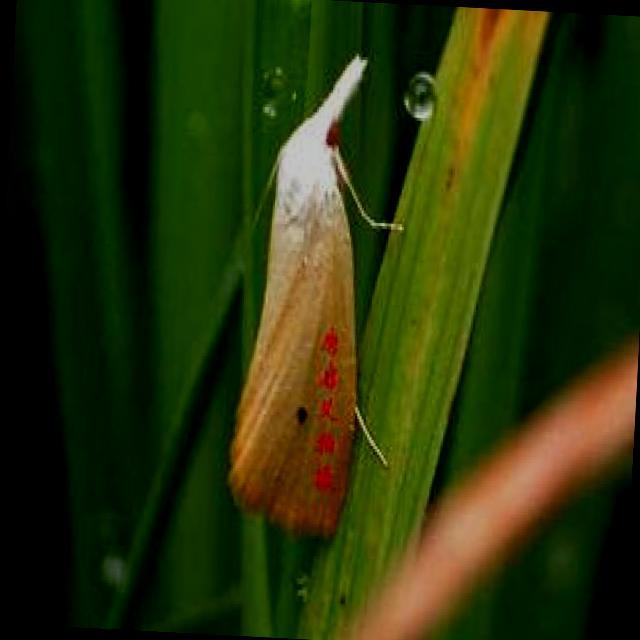stem borer: (229, 55, 402, 535)
